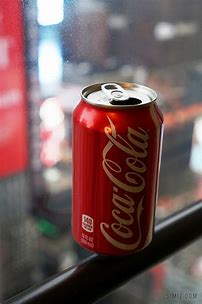Coke: (70, 79, 165, 257)
